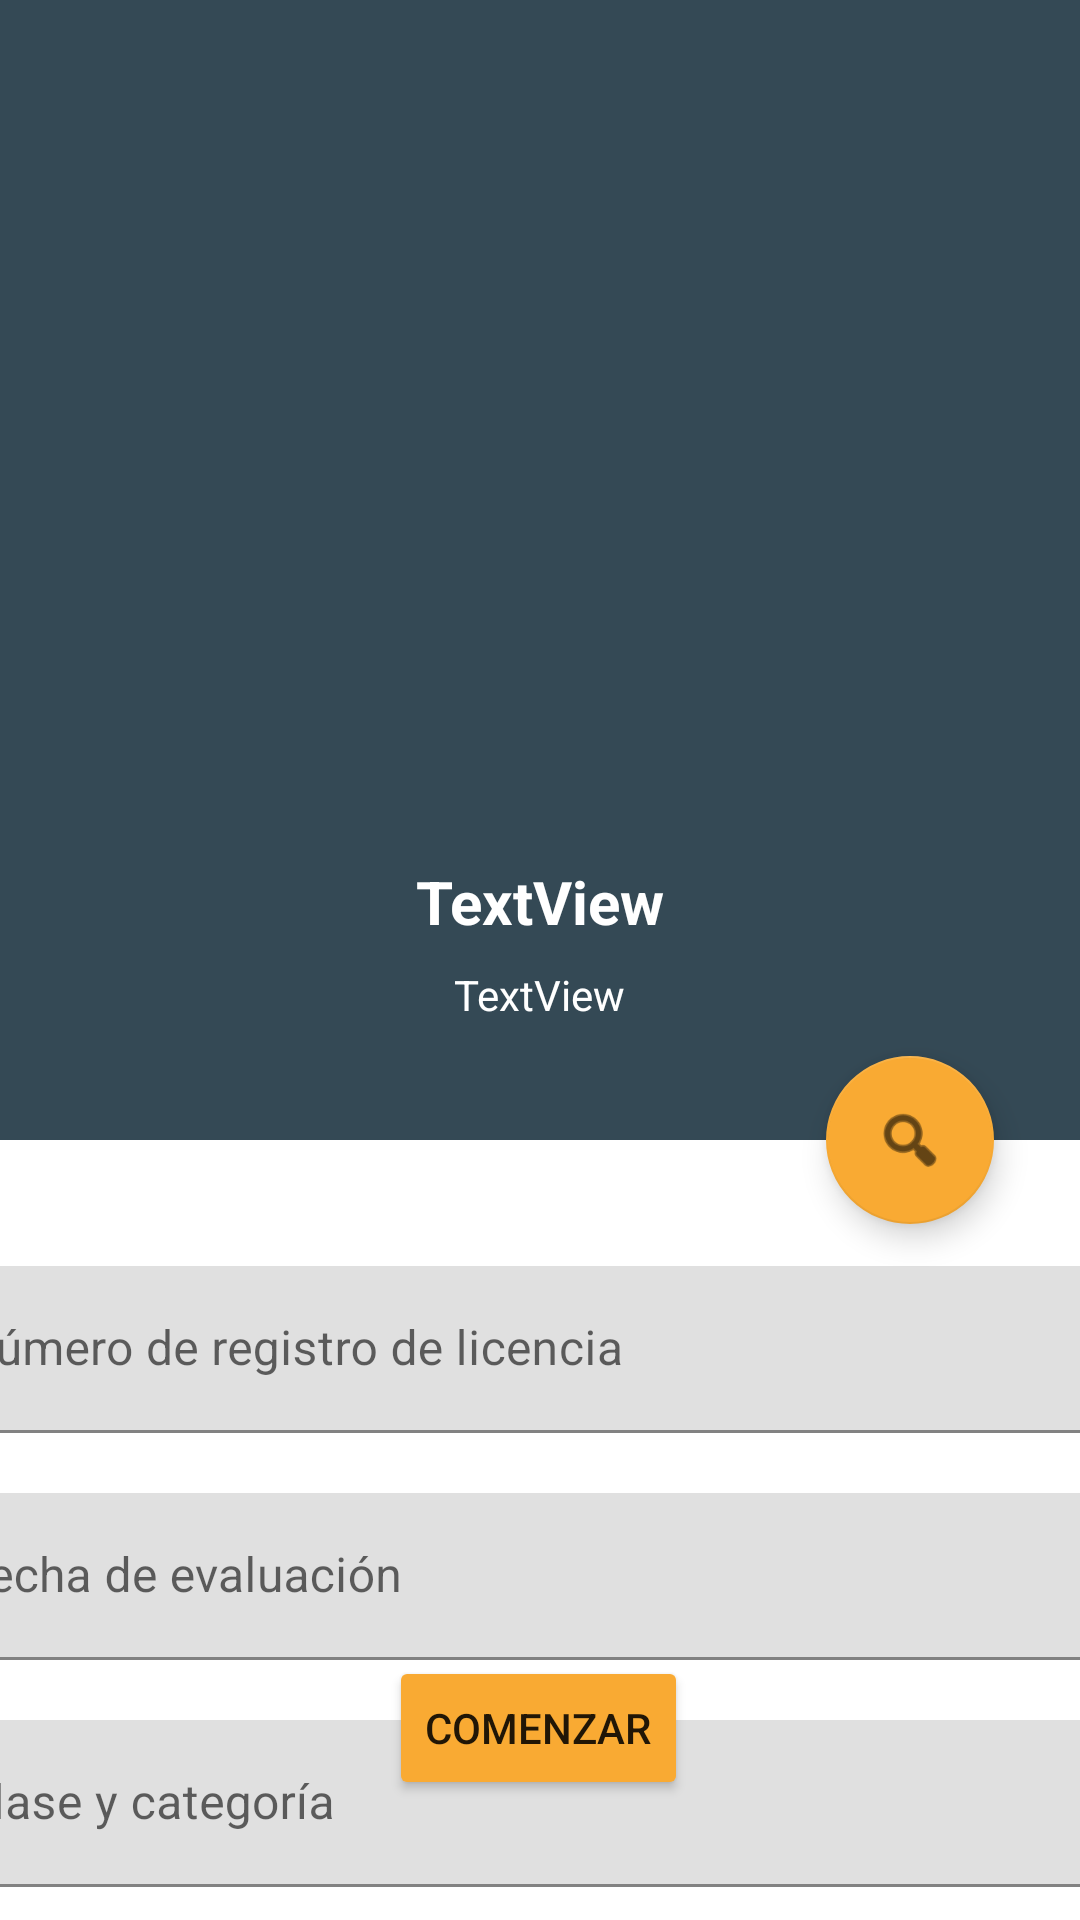

Where to tap for icons on this 1080w x 1920h app screen, as (x=x, y=y):
search: (x=910, y=1140)
